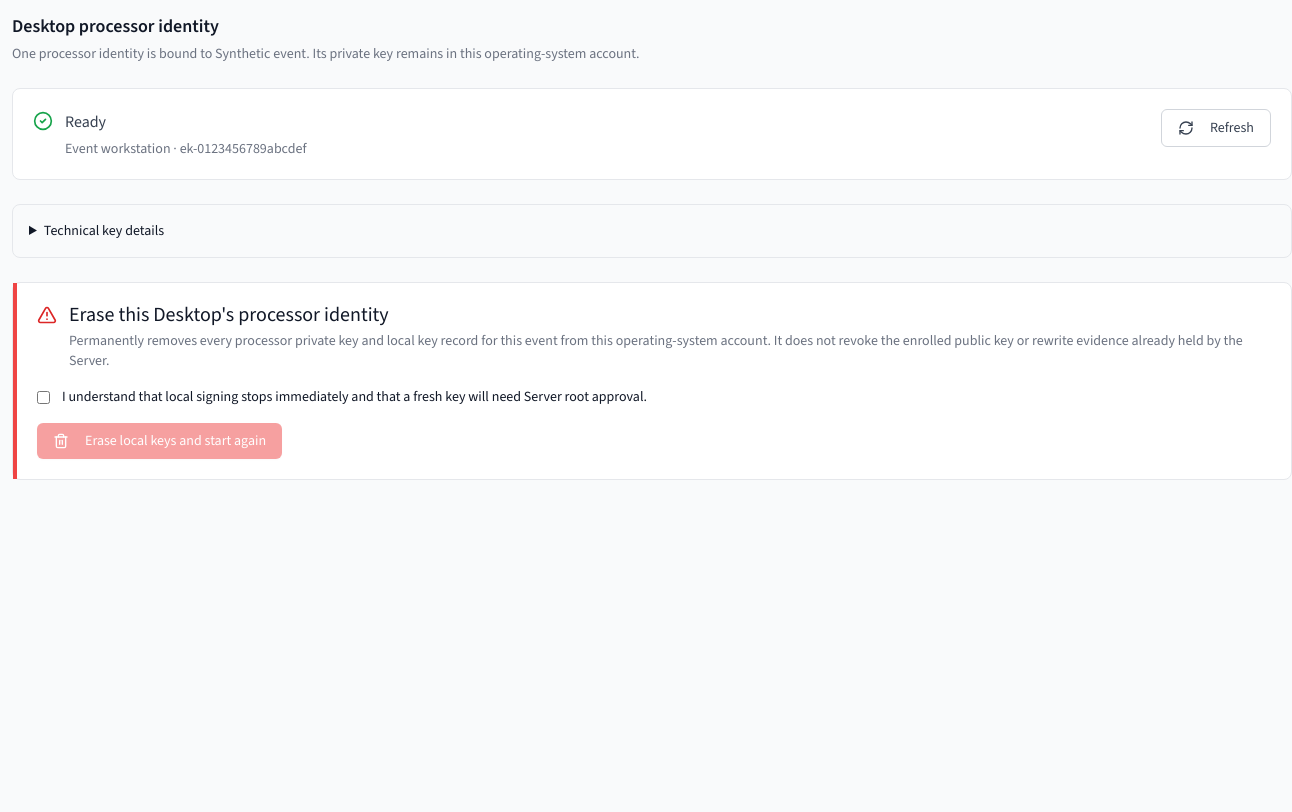
Test case: ProcessorEvidenceSection › erases all local event keys and returns to fresh enrolment
Check: the text "Ready" is shown, box [65, 111, 106, 132]
Click the checkbox labelled "local signing stops immediately" at {"x": 44, "y": 397}, box [37, 391, 50, 404]
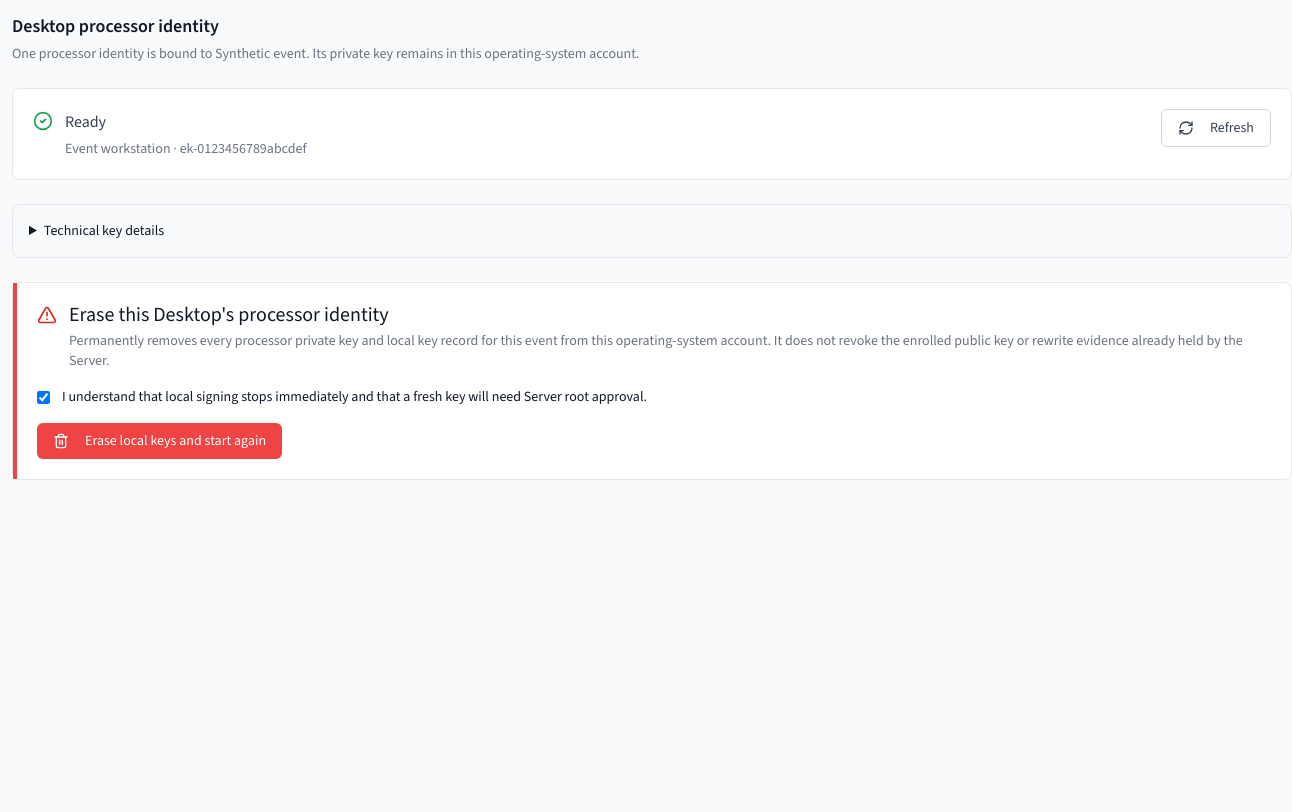
Click the button "Erase local keys and start again" at {"x": 160, "y": 441}, box [37, 423, 282, 459]
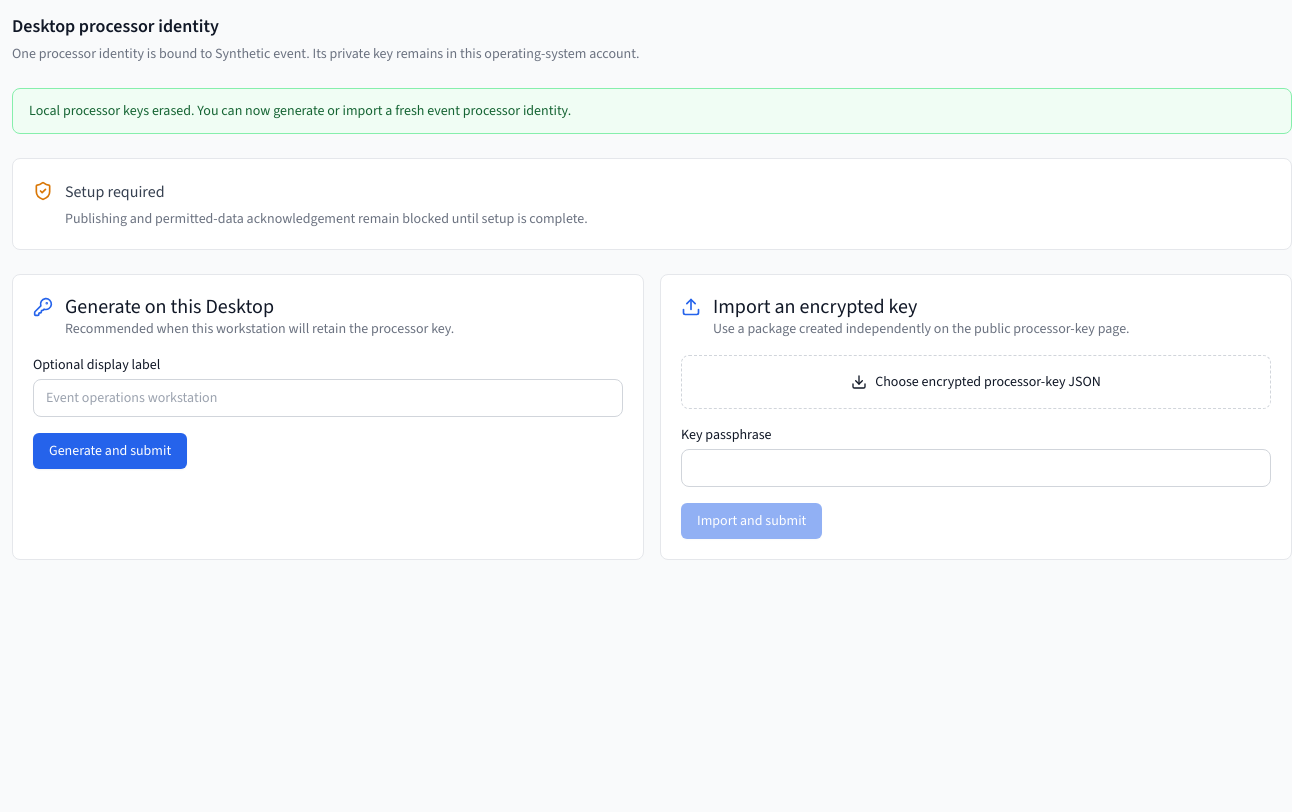
Check: the button "Generate and submit" is shown, box [33, 433, 187, 469]
Check: the text "Local processor keys erased" is shown, box [29, 101, 571, 120]
